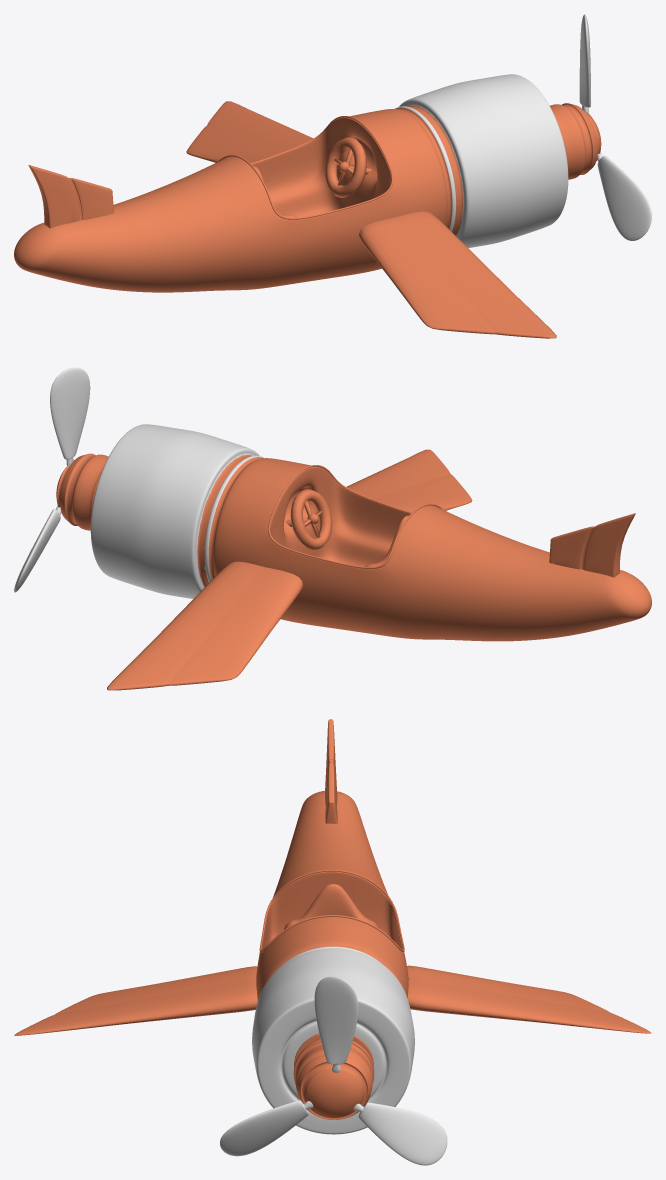
File: airplane.fbx
The picture shows the model from 3 angles, top to bottom: view 1: azimuth 30°, elevation 25°; view 2: azimuth 150°, elevation 25°; view 3: azimuth 270°, elevation 25°; orthographic projection. The views are drawn at different scales.
Visible parts, largest first — view 1: airplanemain, airplane2; view 2: airplanemain, airplane2; view 3: airplanemain, airplane2.
Boxes of the visible parts, x1=… form: airplanemain: x1=14, y1=74, x2=601, y2=338; airplane2: x1=579, y1=14, x2=651, y2=240; airplanemain: x1=56, y1=424, x2=651, y2=690; airplane2: x1=14, y1=367, x2=90, y2=592; airplanemain: x1=14, y1=719, x2=651, y2=1134; airplane2: x1=220, y1=976, x2=447, y2=1165.
Bounding box in the file's own units: 922 × 292 × 892.
